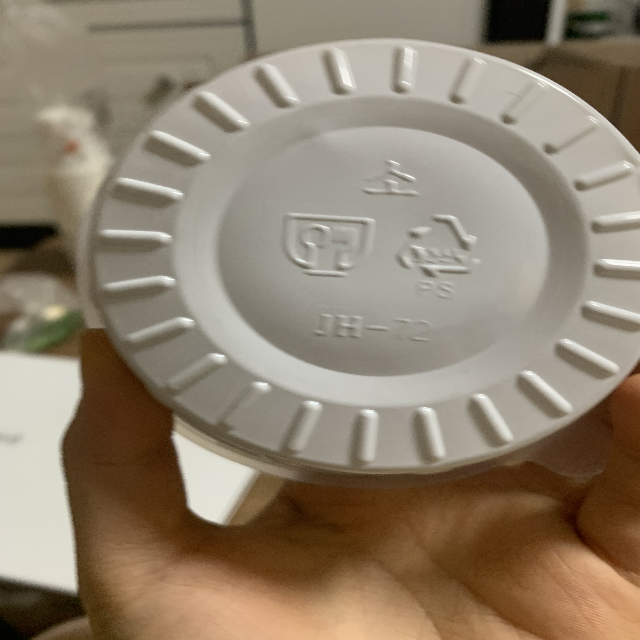ps: (395, 212, 486, 302)
